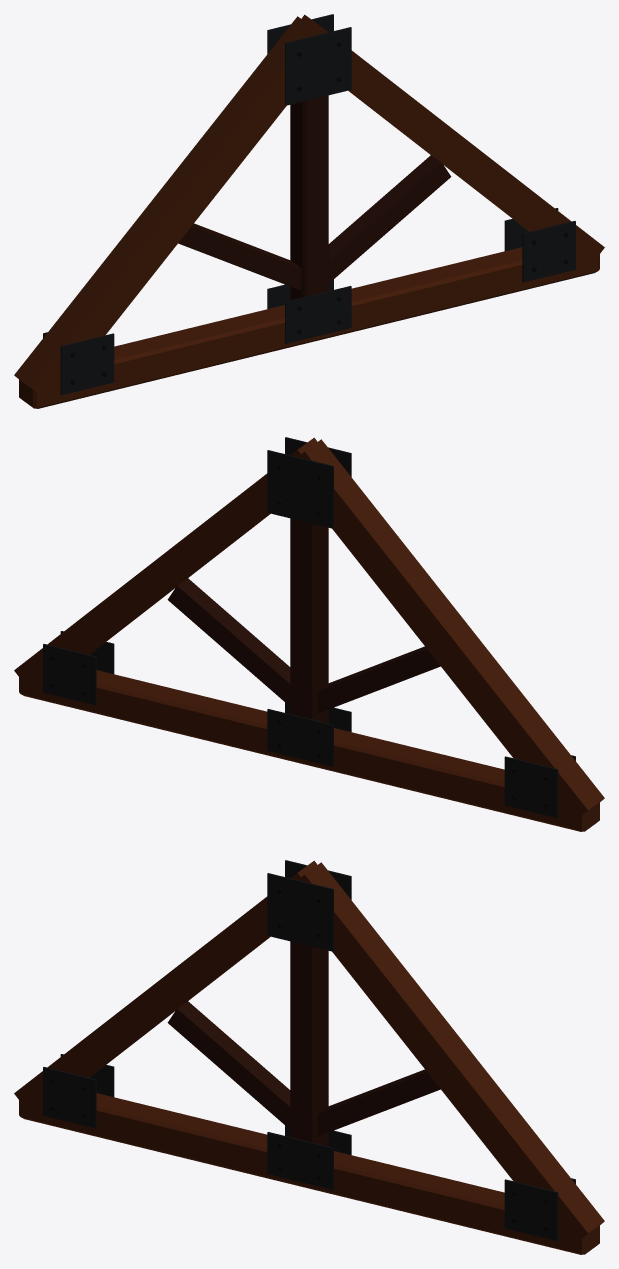
File: SM_Bld_Truss_4m.glb
The picture shows the model from 3 angles, top to bottom: view 1: azimuth 30°, elevation 25°; view 2: azimuth 150°, elevation 25°; view 3: azimuth 330°, elevation 25°; orthographic projection.
Visible parts, largest first — view 1: SM_Bld_Truss_4m; view 2: SM_Bld_Truss_4m; view 3: SM_Bld_Truss_4m.
Part boxes in pixels (x1=…): SM_Bld_Truss_4m: x1=14, y1=14, x2=604, y2=408; SM_Bld_Truss_4m: x1=14, y1=437, x2=604, y2=831; SM_Bld_Truss_4m: x1=14, y1=860, x2=604, y2=1254.
Bounding box in the file's own units: 4.35 × 2.28 × 0.272.
1 material, 1 textured.
